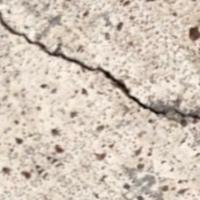crack: (1, 2, 196, 146)
